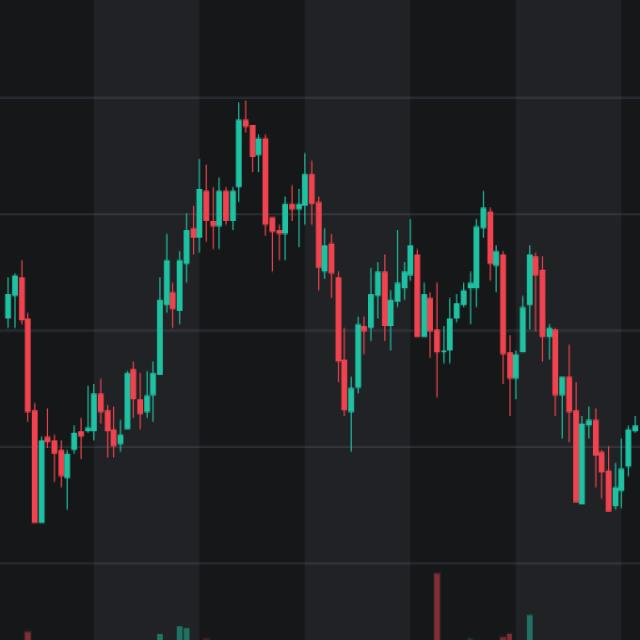Head-Shoulders: (160, 93, 342, 314)
Rising-Wedge: (16, 349, 172, 564)
Rounding-Top: (344, 192, 594, 423)
